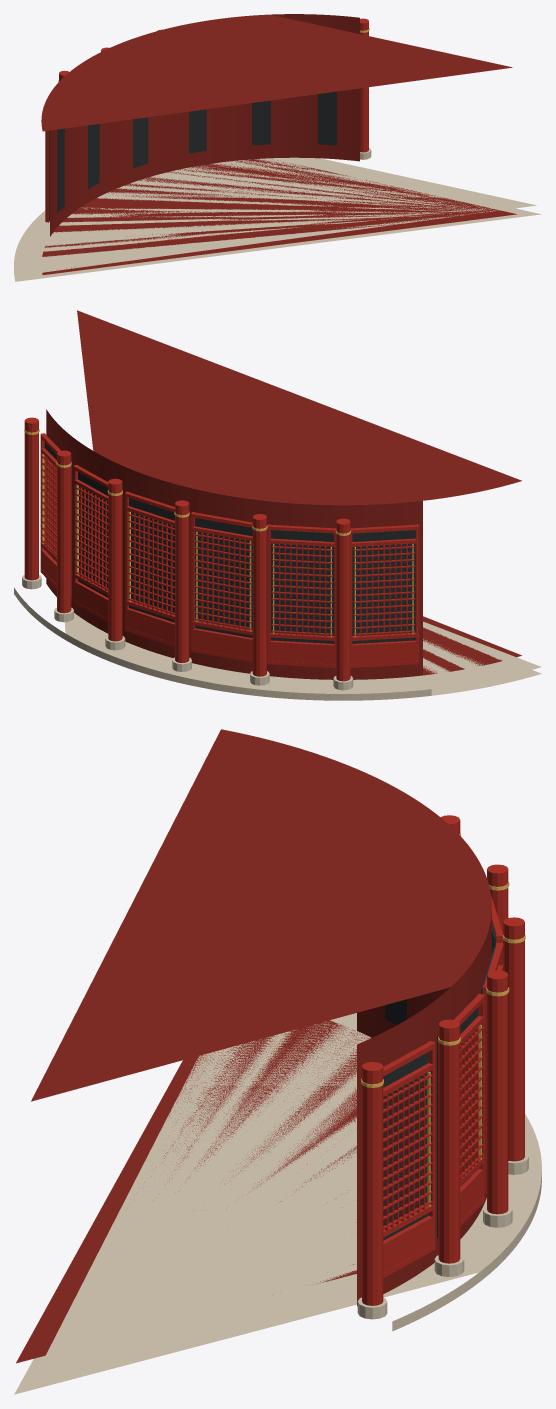
File: SM_22_Wall_2.fbx
3 renders of one model, top to bottom at view 1: azimuth 30°, elevation 25°; view 2: azimuth 150°, elevation 25°; view 3: azimuth 270°, elevation 25°, orthographic. The views are drawn at different scales.
Parts seen in each view (by area): view 1: Wall_2; view 2: Wall_2; view 3: Wall_2.
Boxes of the visible parts, x1=… form: Wall_2: x1=14, y1=14, x2=540, y2=281; Wall_2: x1=14, y1=310, x2=541, y2=700; Wall_2: x1=14, y1=729, x2=541, y2=1394.
Bounding box in the file's own units: 2637 × 1425 × 810.
